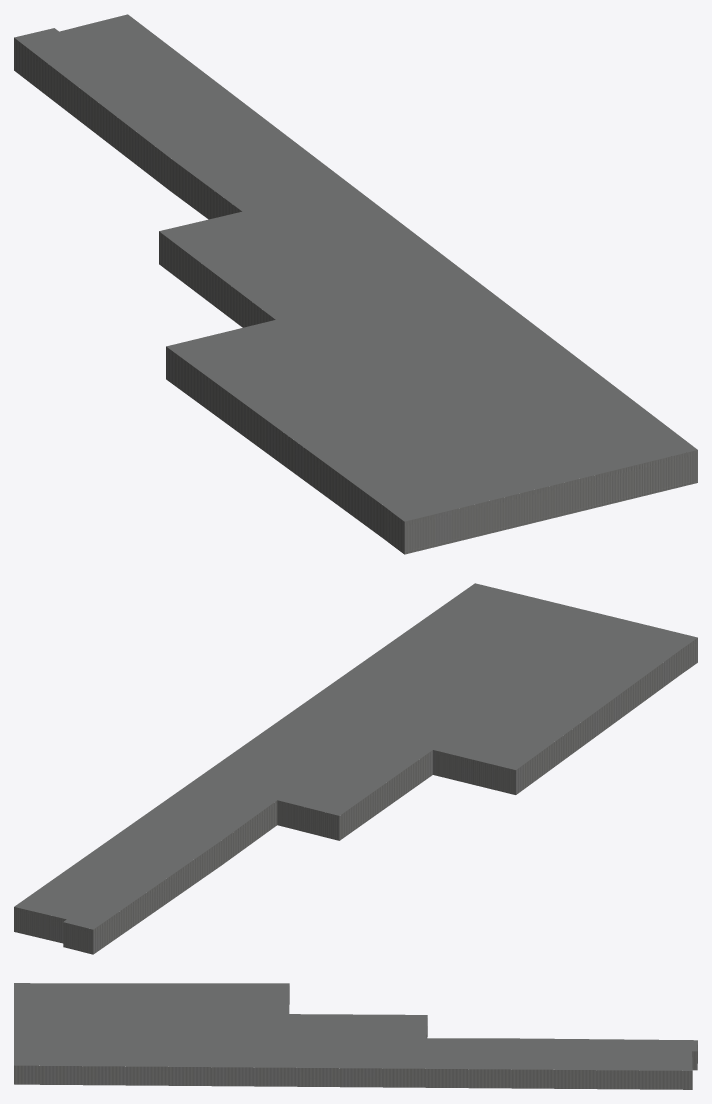
Rendered from sdsc_mro_oficinas.glb.
3 renders of one model, top to bottom at view 1: azimuth 30°, elevation 25°; view 2: azimuth 150°, elevation 25°; view 3: azimuth 270°, elevation 25°, orthographic. The views are drawn at different scales.
Parts seen in each view (by area): view 1: sdsc_mro_oficinas; view 2: sdsc_mro_oficinas; view 3: sdsc_mro_oficinas.
Part boxes in pixels (bbox=[...]): sdsc_mro_oficinas: bbox=[14, 14, 697, 554]; sdsc_mro_oficinas: bbox=[14, 583, 697, 954]; sdsc_mro_oficinas: bbox=[14, 983, 697, 1089].
Size of the model in its own units: 143 by 14.4 by 470.
Materials: 2 (1 with a texture image).
